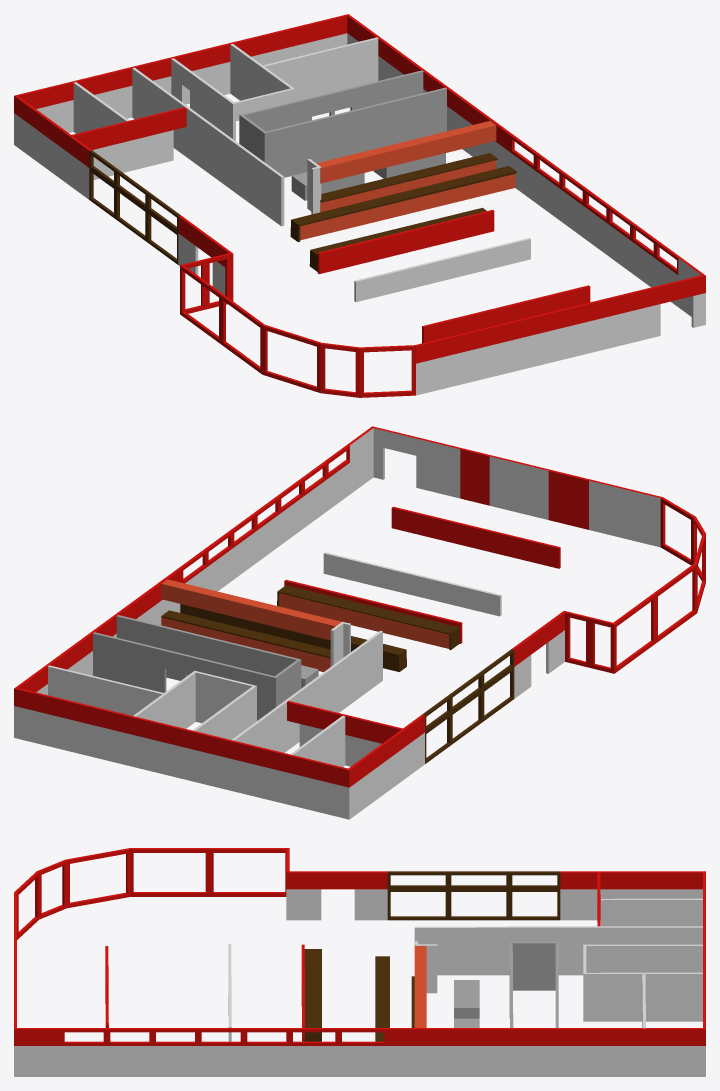
Rendered from KFCBuilding.fbx.
The picture shows the model from 3 angles, top to bottom: view 1: azimuth 30°, elevation 25°; view 2: azimuth 150°, elevation 25°; view 3: azimuth 270°, elevation 25°; orthographic projection. The views are drawn at different scales.
Parts seen in each view (by area): view 1: Walls, Counters; view 2: Walls, Counters; view 3: Walls, Counters.
Part boxes in pixels (x1=…): Walls: x1=14, y1=14, x2=705, y2=397; Counters: x1=290, y1=121, x2=516, y2=271; Walls: x1=14, y1=426, x2=705, y2=819; Counters: x1=161, y1=579, x2=459, y2=688; Walls: x1=14, y1=848, x2=705, y2=1076; Counters: x1=304, y1=945, x2=479, y2=1041.
Bounding box in the file's own units: 2609 × 319 × 4208.
